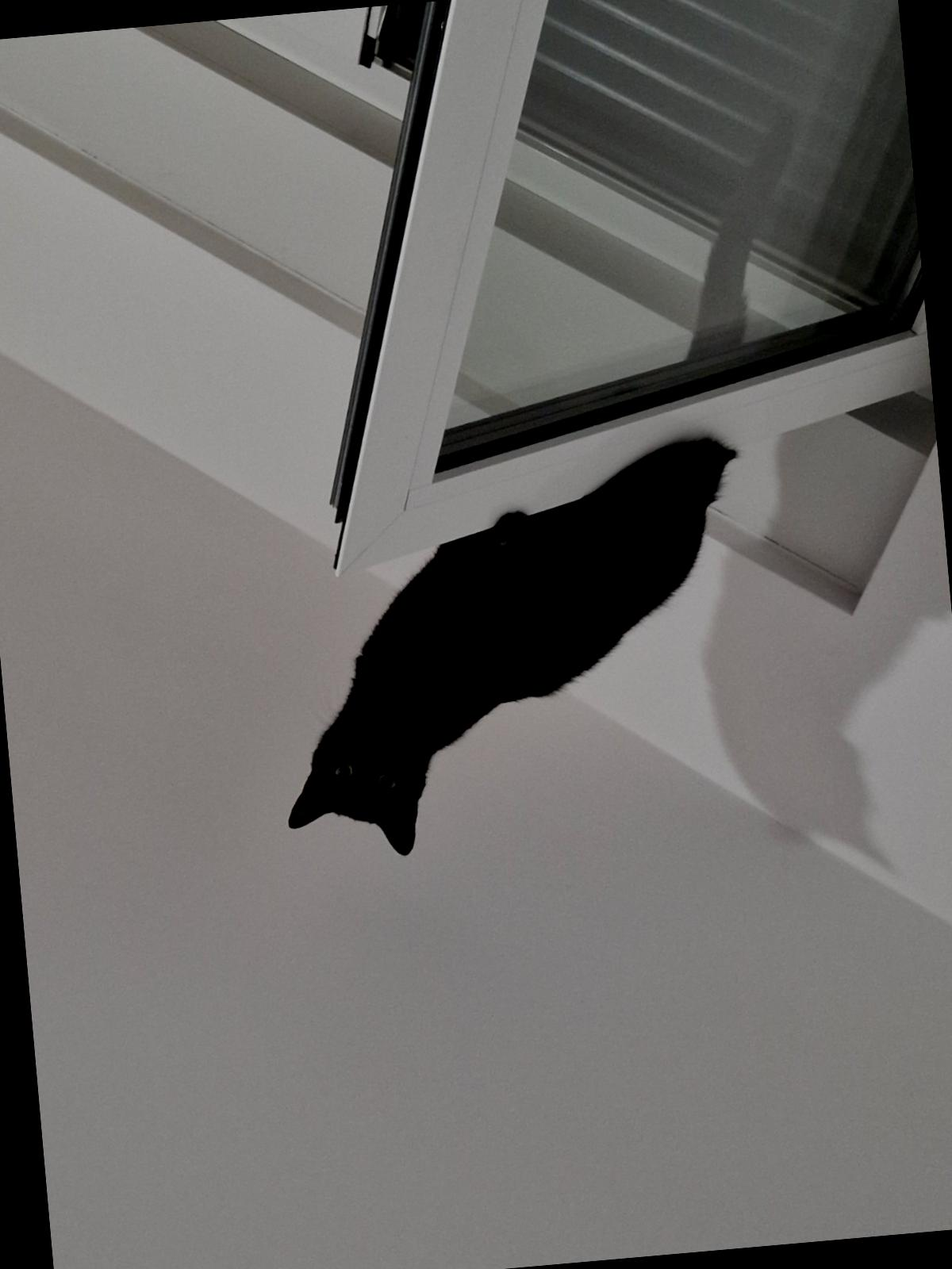macka: (255, 426, 766, 870)
